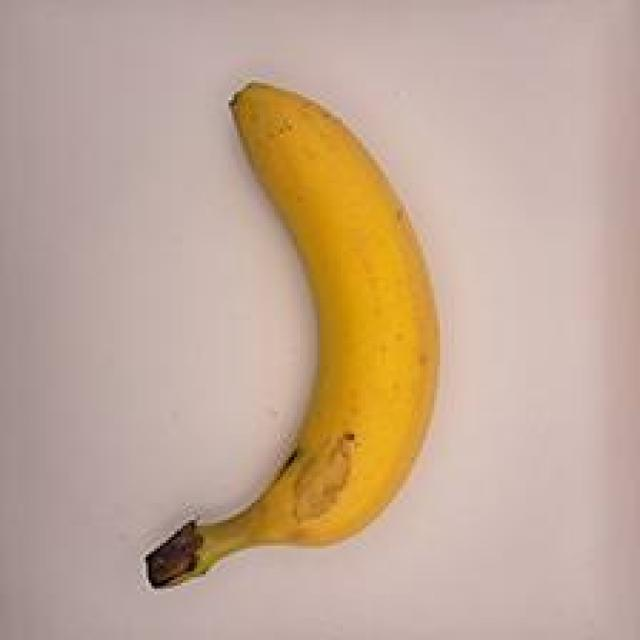Ripe: (110, 60, 454, 599)
